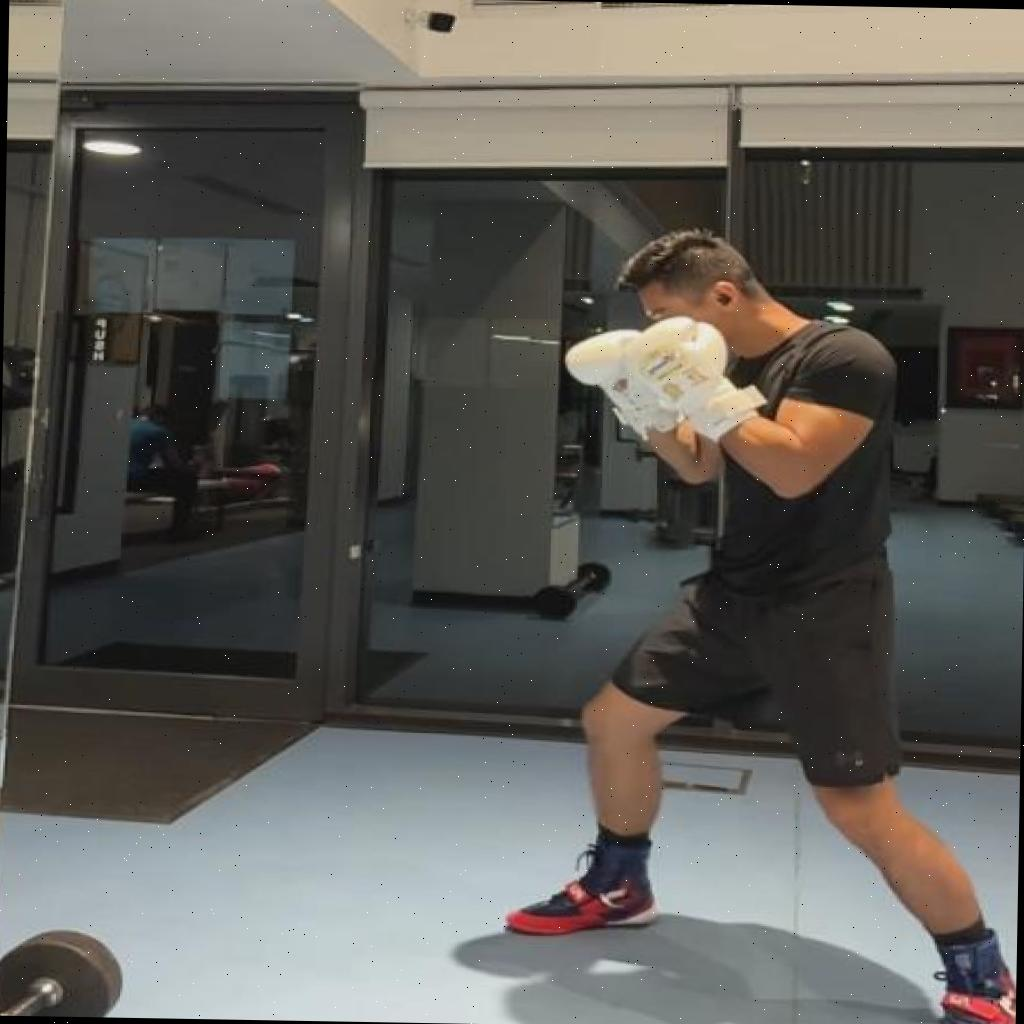no punch: (503, 223, 1024, 1024)
